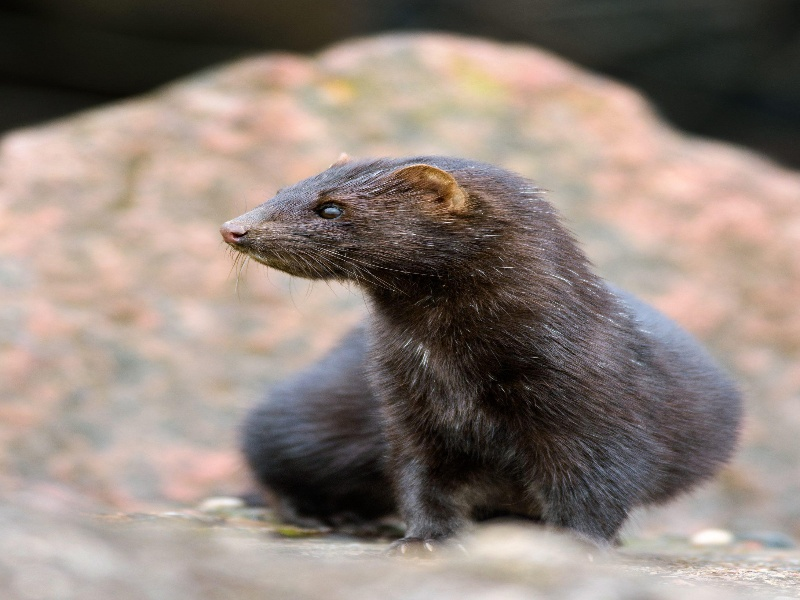minkish: (210, 147, 747, 558)
